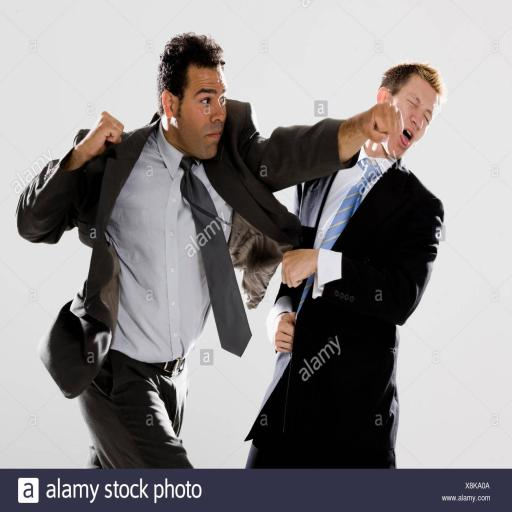fight: (24, 24, 484, 444)
